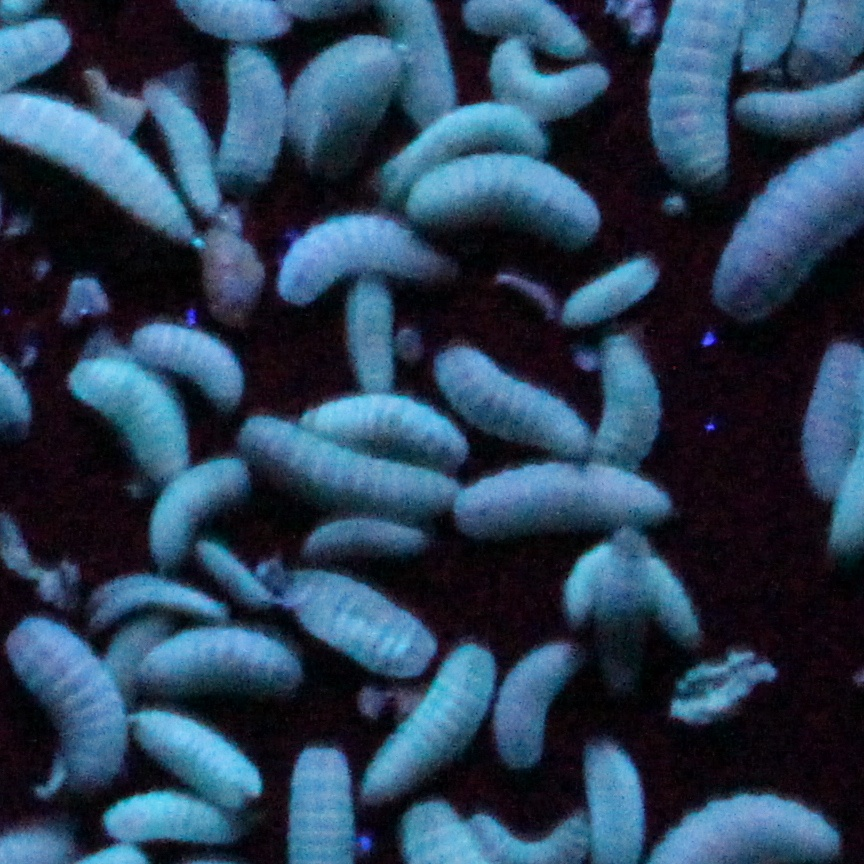larve: (45, 609, 163, 794), (358, 650, 486, 804), (394, 153, 601, 244), (248, 419, 458, 508), (8, 614, 116, 786), (280, 563, 435, 675), (388, 100, 550, 197), (288, 28, 400, 167), (452, 465, 673, 526), (440, 357, 588, 445), (281, 221, 435, 303), (75, 368, 185, 472), (565, 539, 699, 624), (126, 714, 258, 796), (217, 38, 288, 189), (153, 455, 253, 562), (486, 34, 617, 114), (309, 394, 471, 458), (496, 639, 578, 765), (137, 629, 296, 686), (141, 97, 219, 206), (134, 322, 244, 398), (806, 340, 857, 494), (104, 793, 253, 840), (606, 342, 657, 463), (73, 578, 222, 617), (563, 255, 648, 322), (350, 286, 394, 386), (308, 522, 427, 555)
